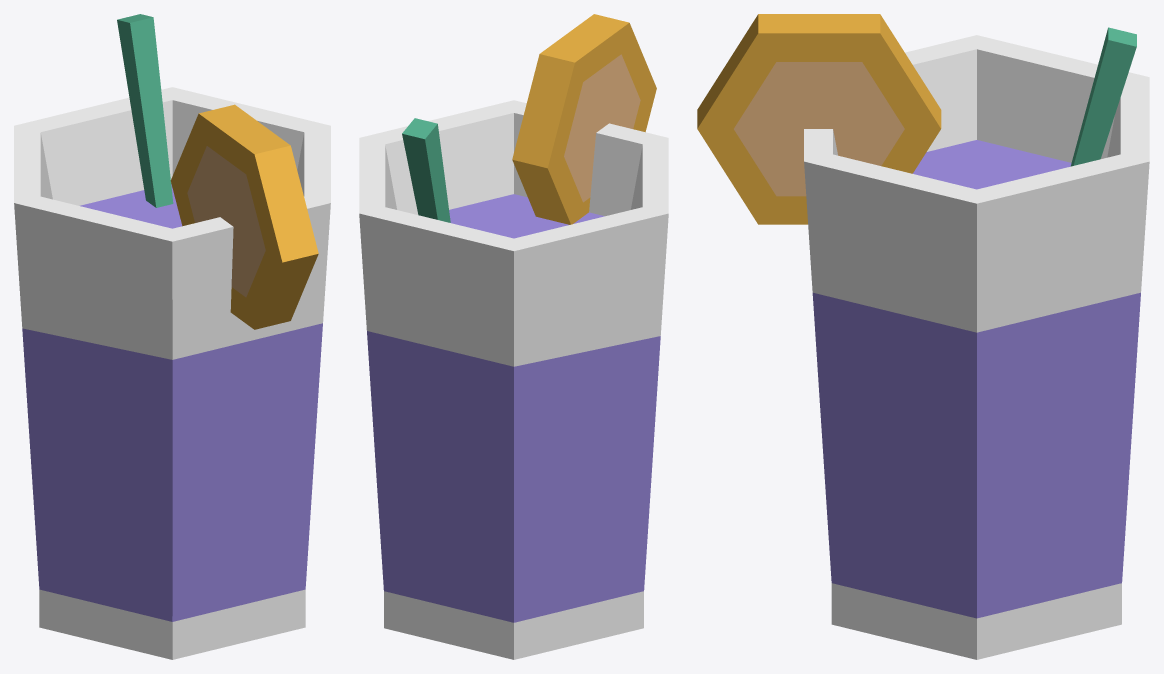
Rendered from sodaGlass.obj.
3 renders of one model, left to right at view 1: azimuth 30°, elevation 25°; view 2: azimuth 150°, elevation 25°; view 3: azimuth 270°, elevation 25°, orthographic. The views are drawn at different scales.
Visible parts, largest first — view 1: sodaGlass, lemon, straw; view 2: sodaGlass, lemon, straw; view 3: sodaGlass, lemon, straw.
Part boxes in pixels (box(x1,y1,x2,y2)): sodaGlass: box(14, 87, 330, 659); lemon: box(170, 104, 318, 329); straw: box(117, 14, 173, 207); sodaGlass: box(359, 100, 668, 659); lemon: box(512, 14, 656, 224); straw: box(402, 118, 450, 222); sodaGlass: box(804, 35, 1149, 659); lemon: box(697, 14, 941, 224); straw: box(1070, 27, 1136, 166).
Size of the model in its own units: 0.2618 by 0.4134 by 0.2967.
